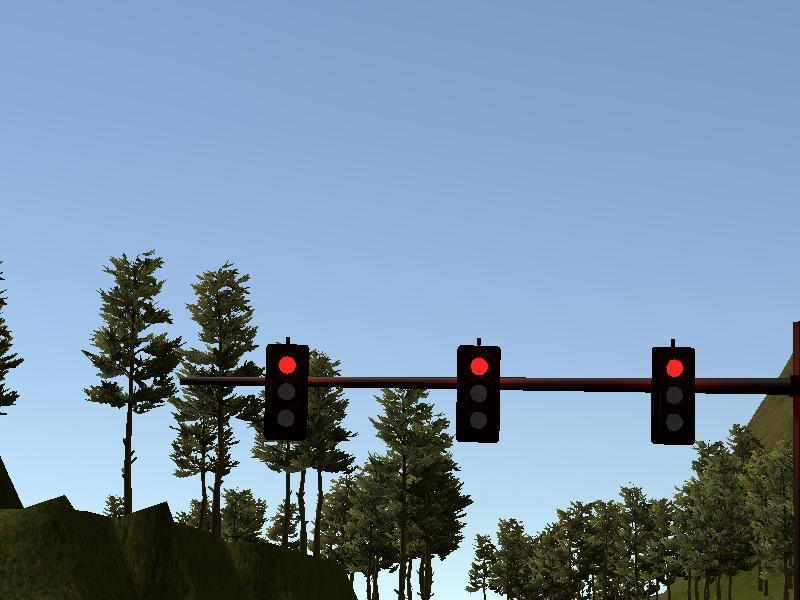Red: (647, 344, 698, 447), (453, 342, 504, 444), (264, 342, 308, 442)
